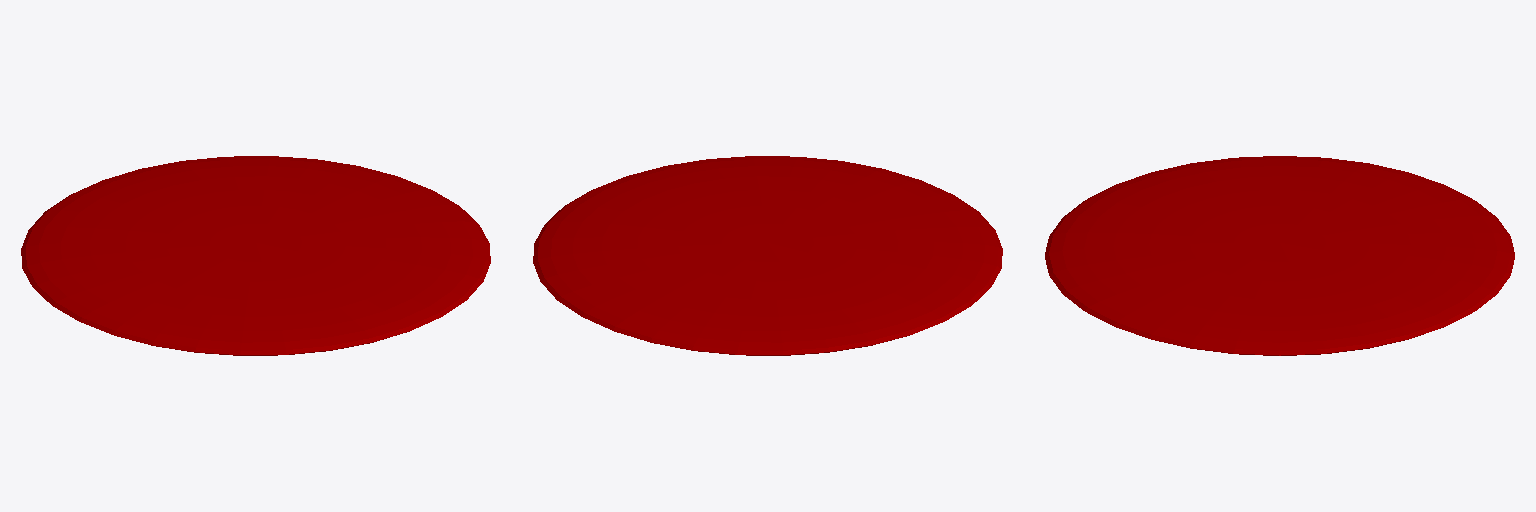
The model's file is start.obj.
3 views of the same model, side by side, from view 1: azimuth 30°, elevation 25°; view 2: azimuth 150°, elevation 25°; view 3: azimuth 270°, elevation 25° (orthographic).
Parts seen in each view (by area): view 1: Sphere; view 2: Sphere; view 3: Sphere.
Part boxes in pixels (x1,y1,x2,y2): Sphere: (21, 156, 490, 355); Sphere: (533, 156, 1002, 355); Sphere: (1045, 156, 1514, 355).
Size of the model in its own units: 16 by 1 by 16.